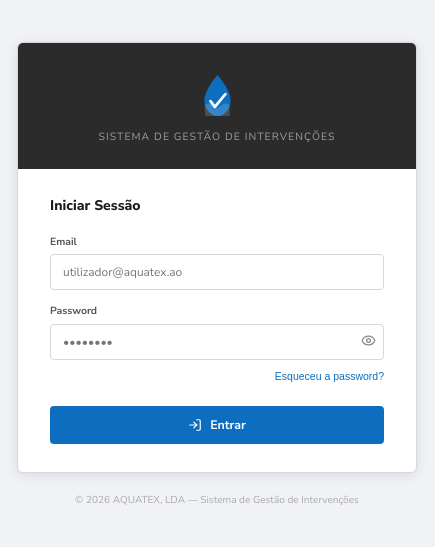
Scenario: LoginPage › mostra erro se submeter com campos vazios
The width and height of the screenshot is (435, 547).
Click the button "Entrar".
click(217, 425)  # box [50,406,384,444]
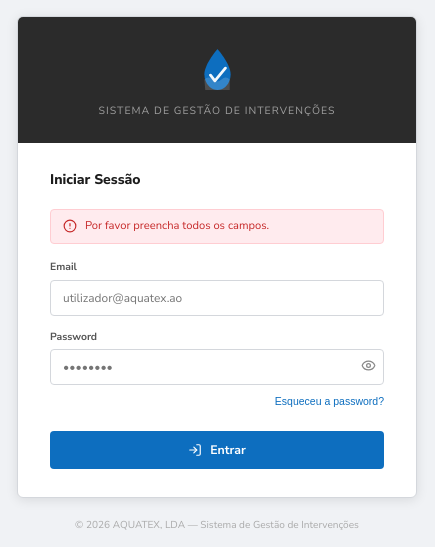
Expected: the text "Por favor preencha todos os campos." is shown, [85,218,269,235]
